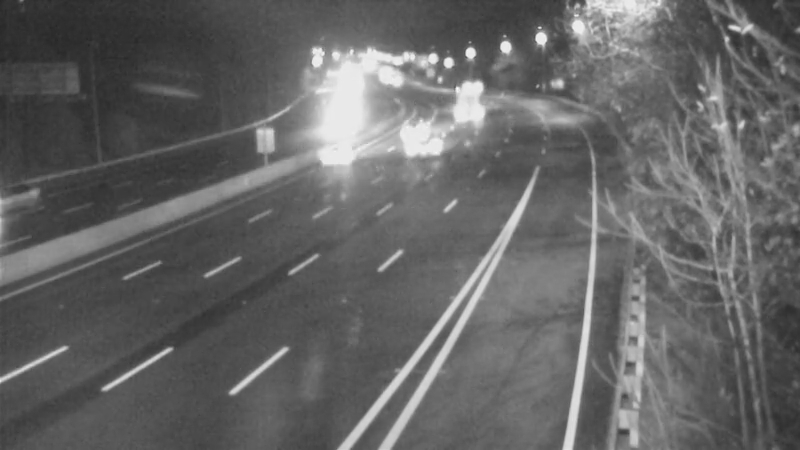vehicle: (298, 113, 378, 193), (441, 75, 491, 125), (385, 101, 435, 151), (397, 123, 447, 173)
